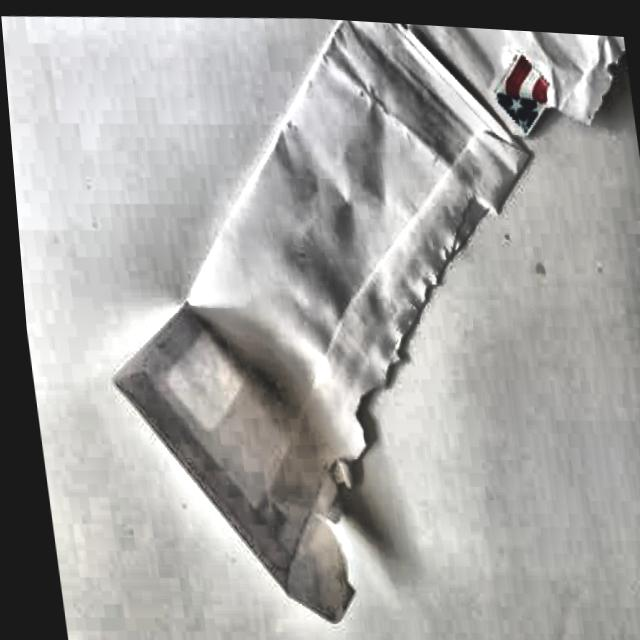Paper: (59, 3, 640, 640)
